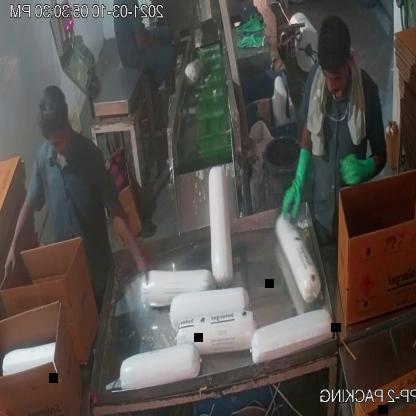glove: (279, 142, 316, 224), (338, 142, 378, 192)
no_glove: (99, 188, 159, 291), (0, 184, 38, 297), (130, 21, 172, 57)
